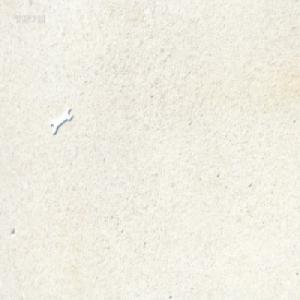Wrench: (48, 106, 71, 138)
